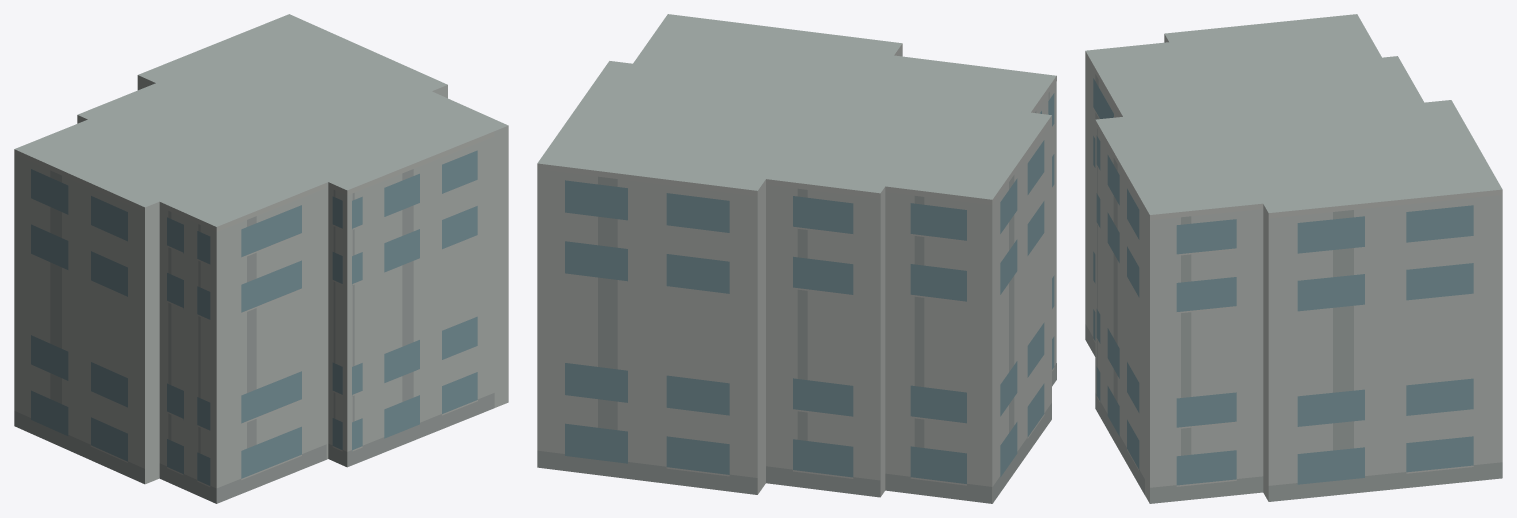
File: survey-upis-33029622.glb
3 views of the same model, side by side, from view 1: azimuth 30°, elevation 25°; view 2: azimuth 150°, elevation 25°; view 3: azimuth 270°, elevation 25° (orthographic). The views are drawn at different scales.
Parts seen in each view (by area): view 1: survey-upis-33029622.tmp; view 2: survey-upis-33029622.tmp; view 3: survey-upis-33029622.tmp.
Part boxes in pixels (box(x1,y1,x2,y2)): survey-upis-33029622.tmp: box(14, 14, 508, 503); survey-upis-33029622.tmp: box(537, 14, 1056, 503); survey-upis-33029622.tmp: box(1085, 14, 1502, 503).
Size of the model in its own units: 19.57 by 13.1 by 17.16.
